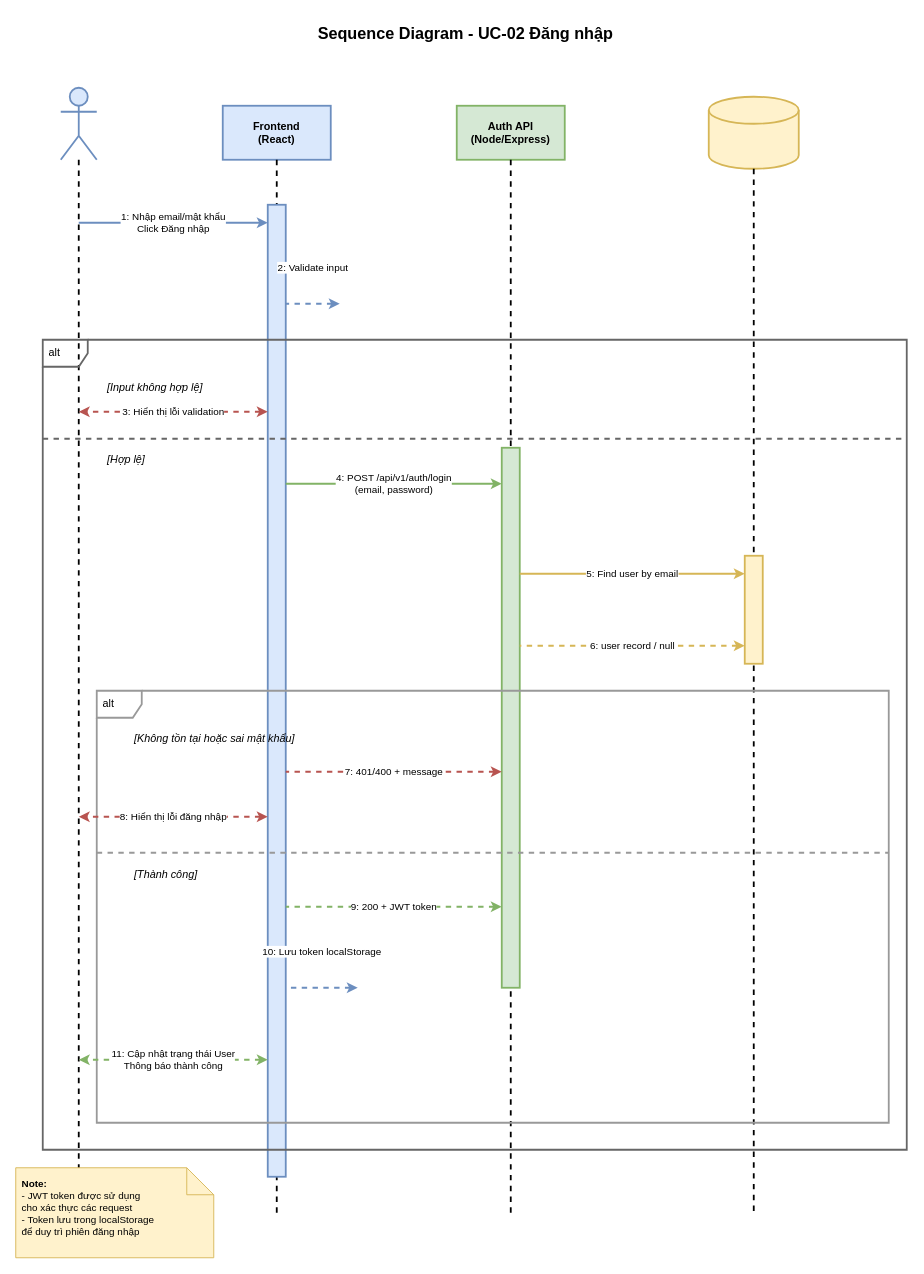
This 924x1274 diagram has some shape labels left out. The shapes that lost their labels are listed below. From the top down, each one's box as (x1, y1, x2, y2) in pixels, then its label:
(59, 86, 97, 160): Guest
(707, 95, 799, 169): MongoDB
